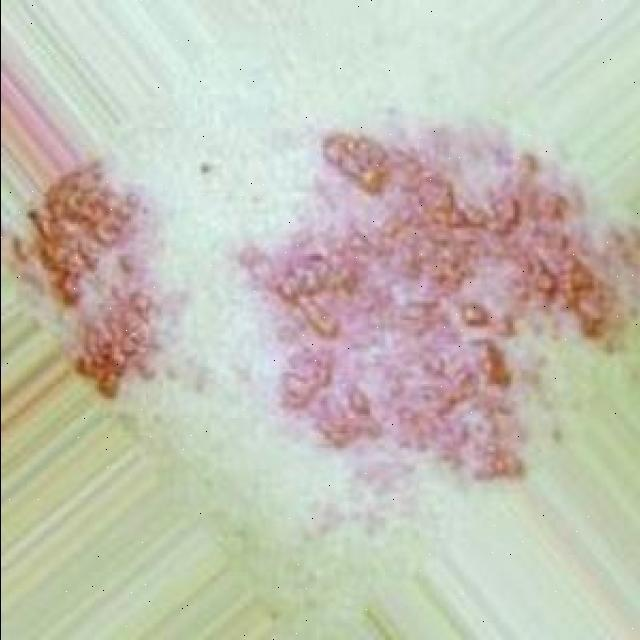Shingles: (239, 123, 616, 481), (20, 155, 167, 403)
